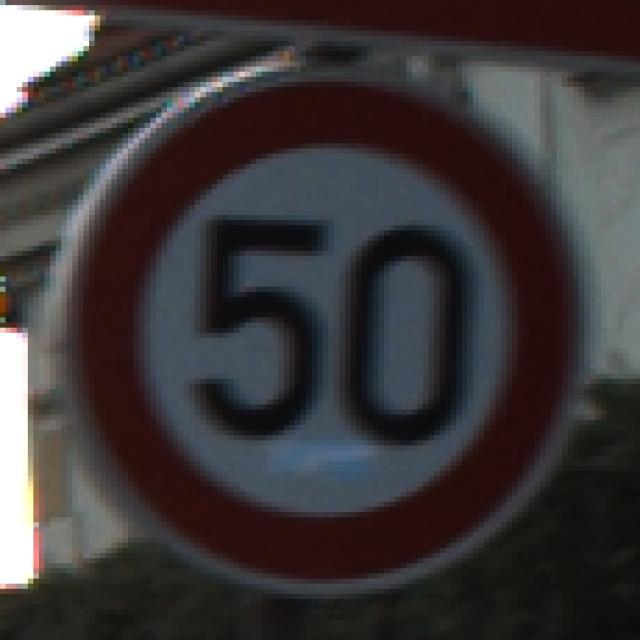speed limit 50: (72, 69, 582, 591)
